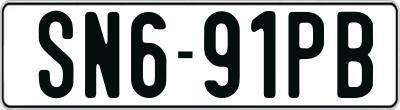1: (248, 11, 274, 99)
6: (128, 9, 167, 95)
9: (204, 10, 240, 99)
B: (335, 10, 373, 102)
N: (83, 9, 123, 101)
P: (288, 10, 327, 102)
S: (36, 10, 74, 97)
